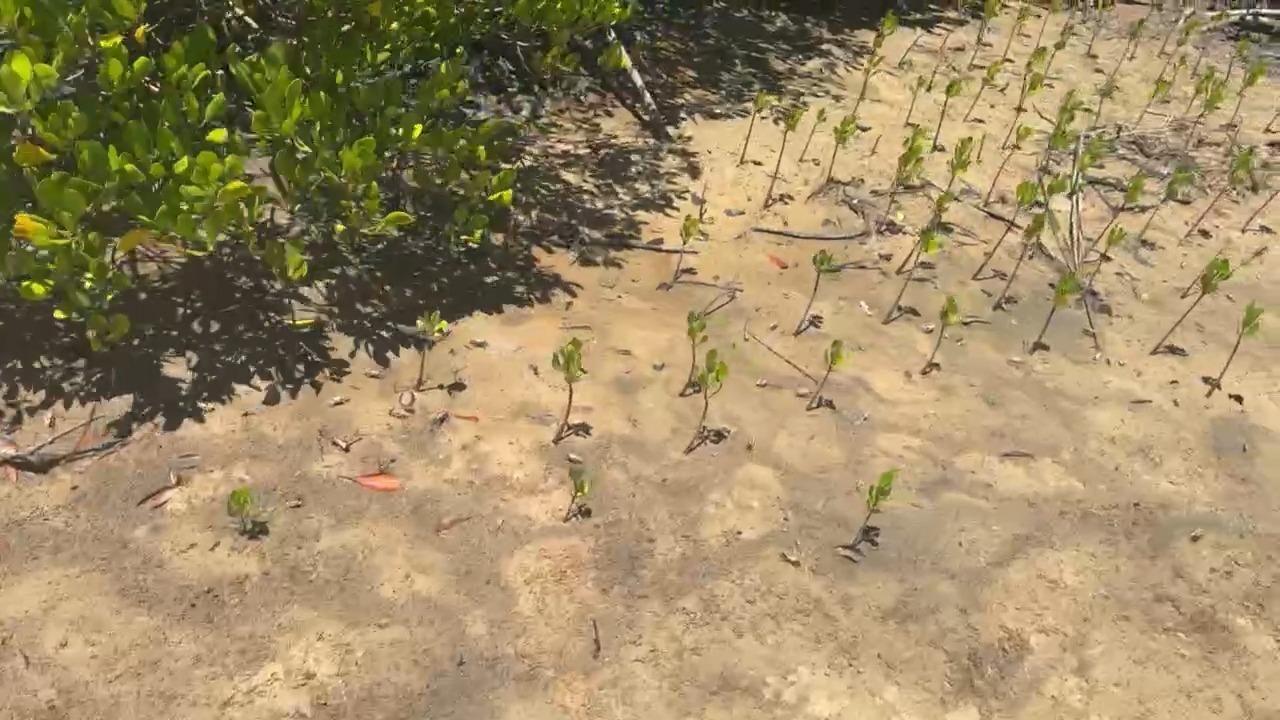Tree: (1151, 257, 1231, 356), (1181, 150, 1263, 242), (972, 181, 1039, 279), (1205, 301, 1269, 398), (1067, 129, 1114, 253), (991, 210, 1046, 311), (883, 226, 939, 324), (894, 192, 956, 275), (763, 96, 807, 211), (853, 10, 899, 111), (982, 123, 1034, 205), (1091, 174, 1149, 247), (688, 348, 728, 452), (1138, 167, 1195, 239), (794, 248, 837, 337), (1032, 272, 1080, 350), (852, 469, 899, 545), (551, 338, 585, 441), (999, 71, 1044, 144), (806, 339, 847, 411), (921, 295, 958, 374), (1189, 8, 1230, 79), (1033, 173, 1071, 245), (414, 310, 447, 392), (1228, 61, 1268, 126), (679, 312, 709, 398), (1086, 226, 1127, 288), (967, 0, 1001, 72), (673, 212, 710, 278), (963, 63, 1002, 124), (892, 126, 930, 188), (1015, 42, 1050, 107), (931, 79, 963, 150), (740, 92, 770, 164), (884, 159, 925, 210), (826, 114, 857, 181), (1110, 21, 1144, 81), (1043, 22, 1074, 78), (1156, 16, 1198, 57), (1039, 128, 1077, 171), (1002, 7, 1034, 58), (945, 136, 973, 194), (562, 468, 589, 527), (799, 107, 827, 163), (1194, 80, 1227, 127), (1135, 82, 1171, 125), (1240, 192, 1280, 228), (1035, 0, 1067, 45), (1053, 90, 1082, 139), (1188, 64, 1217, 111), (1092, 78, 1119, 127), (1082, 294, 1105, 348), (228, 490, 253, 533), (904, 76, 925, 124), (1223, 39, 1248, 76), (898, 32, 924, 63), (1084, 18, 1104, 57), (1167, 57, 1191, 87), (925, 66, 938, 93), (1265, 114, 1280, 132)
